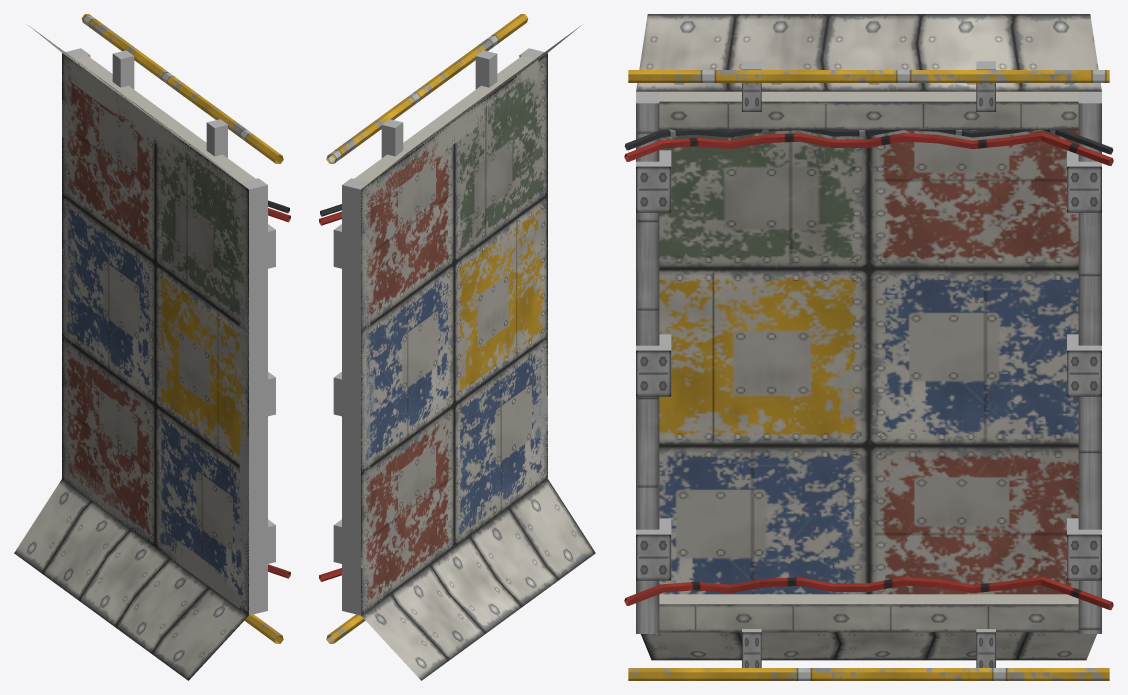
File: cen_wall_scrap.fbx
The picture shows the model from 3 angles, left to right: view 1: azimuth 30°, elevation 25°; view 2: azimuth 150°, elevation 25°; view 3: azimuth 270°, elevation 25°; orthographic projection. The views are drawn at different scales.
Parts seen in each view (by area): view 1: cen_wall_scrap; view 2: cen_wall_scrap; view 3: cen_wall_scrap.
Part boxes in pixels (x1,y1,x2,y2): cen_wall_scrap: (14, 14, 290, 680); cen_wall_scrap: (319, 14, 595, 680); cen_wall_scrap: (624, 14, 1113, 680).
Bounding box in the file's own units: 0.3437 × 1.85 × 1.25.
Materials: 1 (1 with a texture image).
